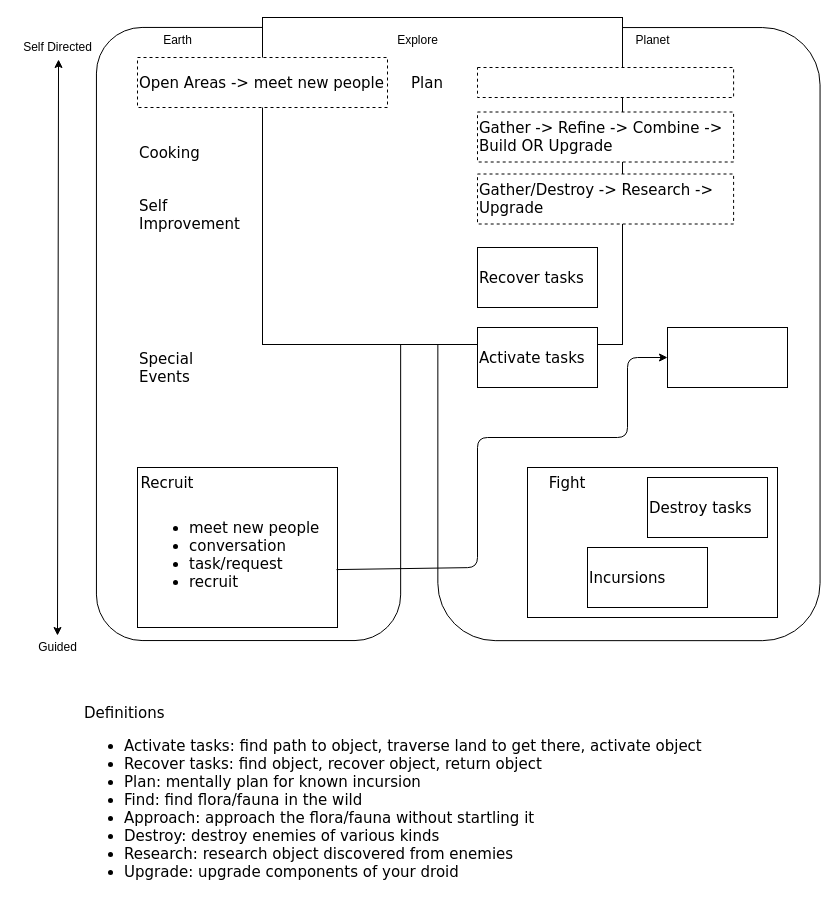
The diagram is 838 pixels wide and 915 high, and some of its shapes have lost their labels. The centre of each missing label's shape, as x and y in pixels:
Find -> Approach -> Photograph: point 605,82
Recruit tasks: point 727,357
